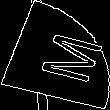M_W: (16, 25, 94, 85)
